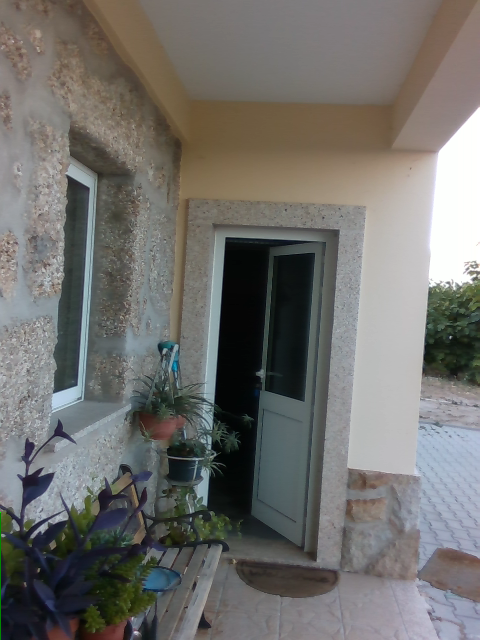semi: (197, 222, 337, 553)
